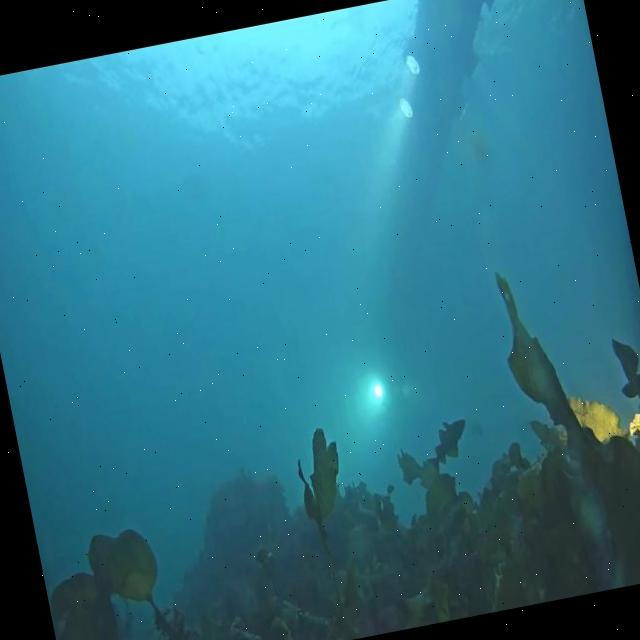fish: (419, 416, 475, 478)
